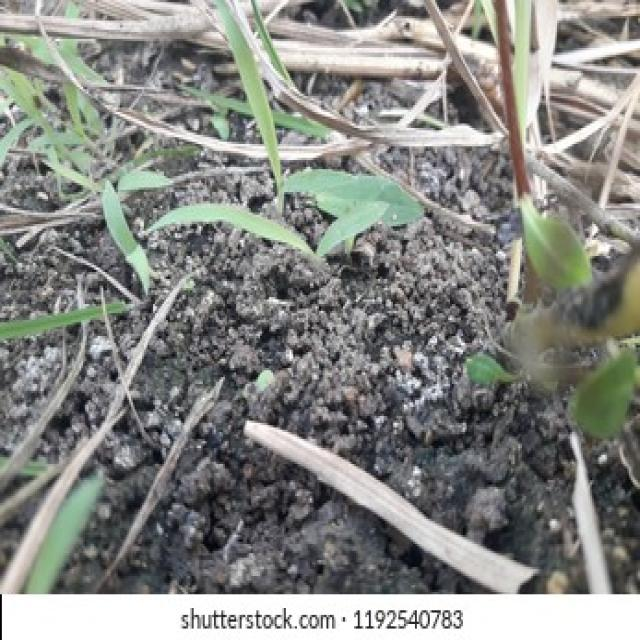Alluvial Soil: (197, 241, 511, 531)
